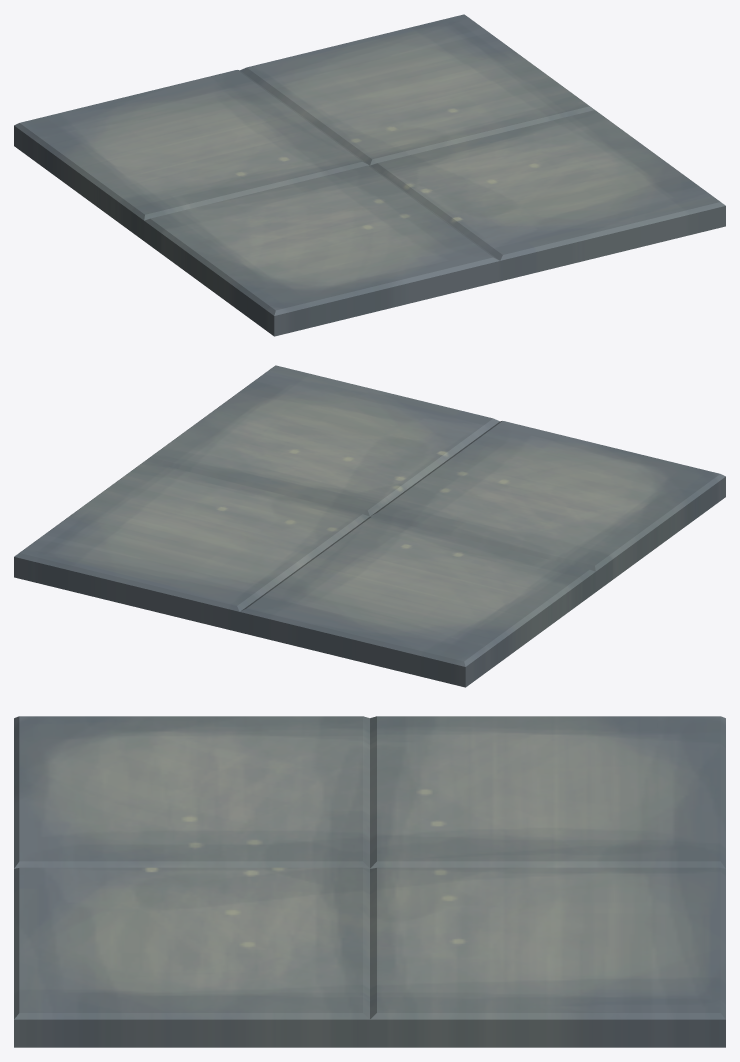
File: Sidewalk_Small.gltf
3 renders of one model, top to bottom at view 1: azimuth 30°, elevation 25°; view 2: azimuth 150°, elevation 25°; view 3: azimuth 270°, elevation 25°, orthographic. The views are drawn at different scales.
Parts seen in each view (by area): view 1: SideWalk_Small; view 2: SideWalk_Small; view 3: SideWalk_Small.
Boxes of the visible parts, left/top/right/bottom form: SideWalk_Small: left=14, top=14, right=725, bottom=336; SideWalk_Small: left=14, top=365, right=725, bottom=687; SideWalk_Small: left=14, top=716, right=725, bottom=1047.
Size of the model in its own units: 2.66 by 0.1338 by 2.65.
Materials: 1 (1 with a texture image).
